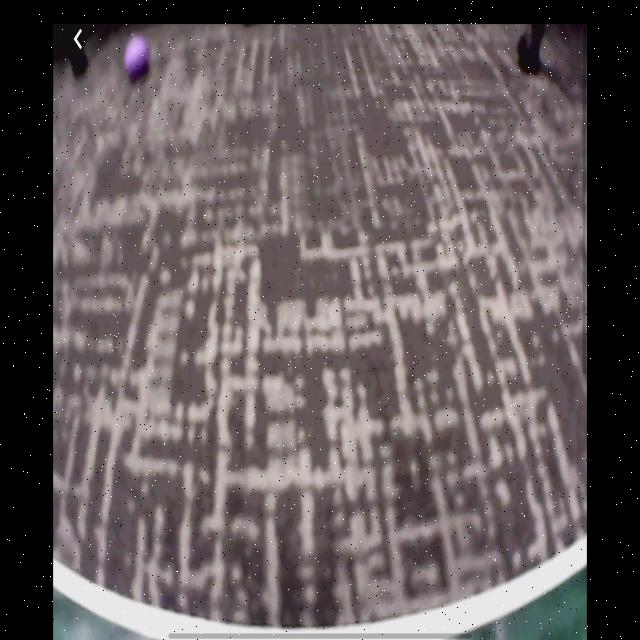ball: (126, 36, 153, 81)
